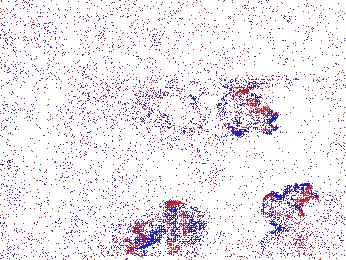flame jellyfish: (134, 200, 204, 249), (217, 90, 281, 136), (261, 182, 319, 231)
